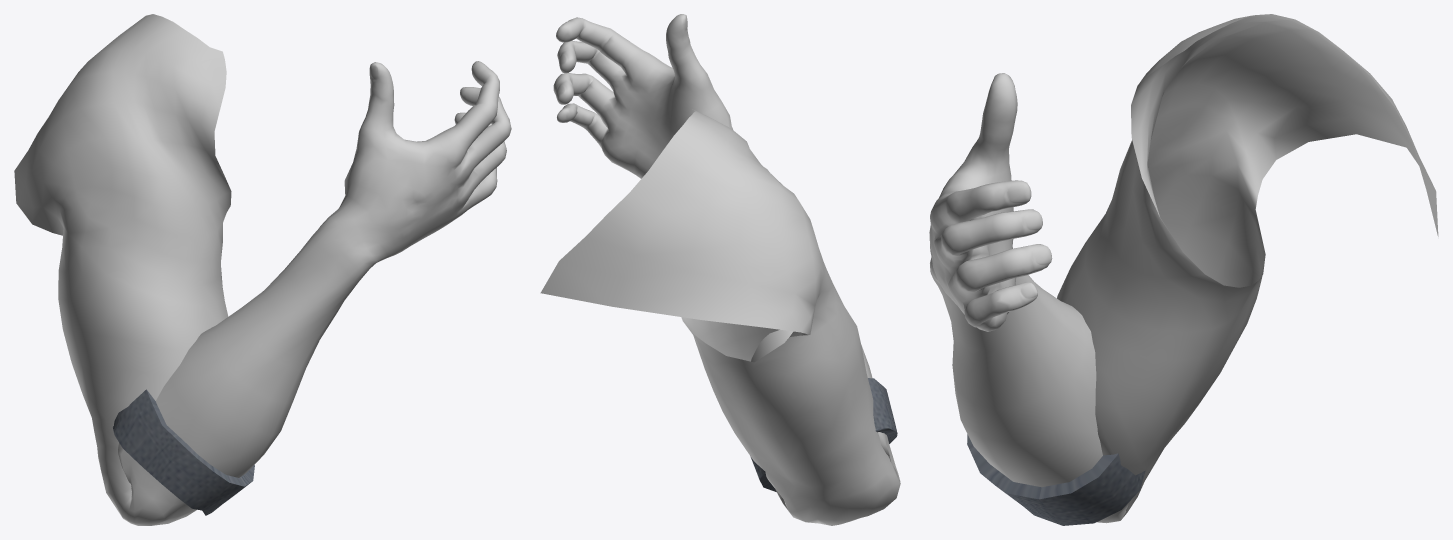
Rendered from ArmsAnim_121412_Export (1).fbx.
3 views of the same model, side by side, from view 1: azimuth 30°, elevation 25°; view 2: azimuth 150°, elevation 25°; view 3: azimuth 270°, elevation 25° (orthographic). The views are drawn at different scales.
Parts seen in each view (by area): view 1: Arm; view 2: Arm; view 3: Arm.
Part boxes in pixels (box(x1,y1,x2,y2)): Arm: box(14, 14, 511, 525); Arm: box(540, 14, 900, 525); Arm: box(929, 14, 1438, 525).
Size of the model in its own units: 29.74 by 34.39 by 28.58.
